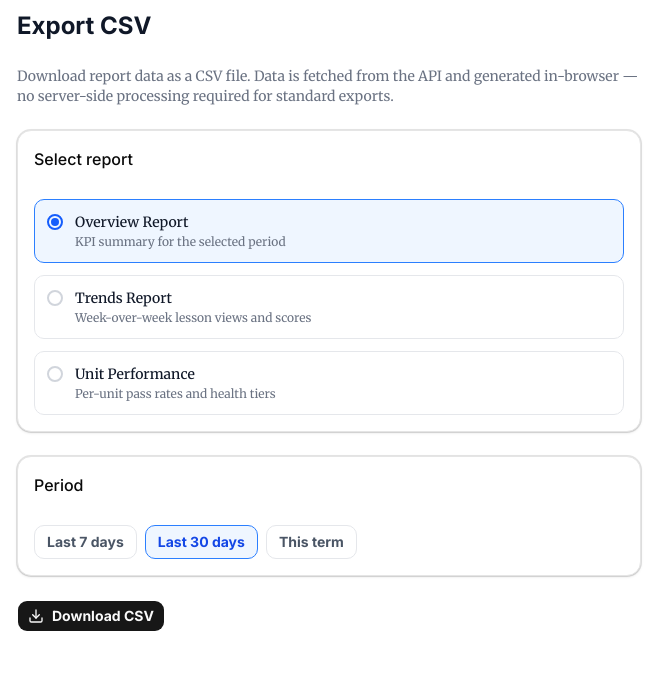
Test: Export CSV — period selection › offers each report only its own periods
Expected: the radio button labelled "Last 30 days" is shown, [145,525,258,559]
Expected: the radio button labelled "12 weeks" is not shown
What coordinates should you click on to do the following:
click the text "Trends Report"
I would click on:
 (124, 298)
Its box is [75,289,172,307].
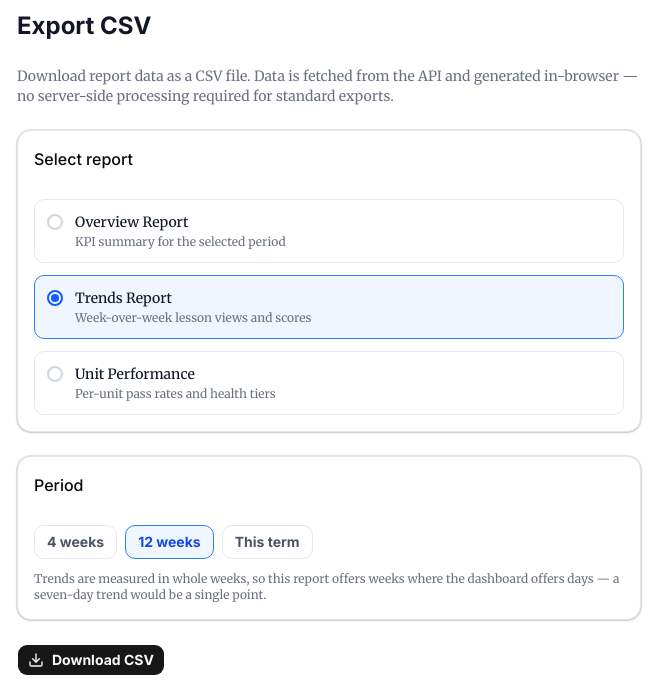
Expected: the radio button labelled "12 weeks" is shown, [125,525,214,559]
Expected: the radio button labelled "Last 30 days" is gone
